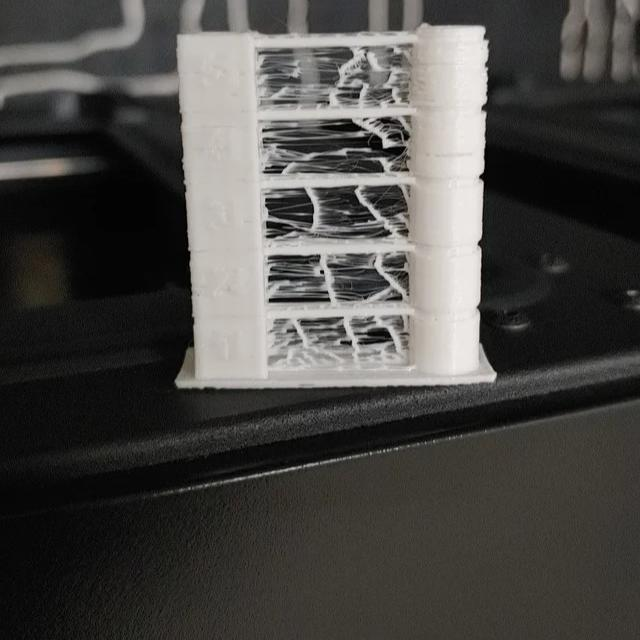stringing: (256, 51, 401, 101), (269, 123, 405, 170), (277, 323, 409, 367), (267, 192, 403, 234), (267, 263, 403, 297)
